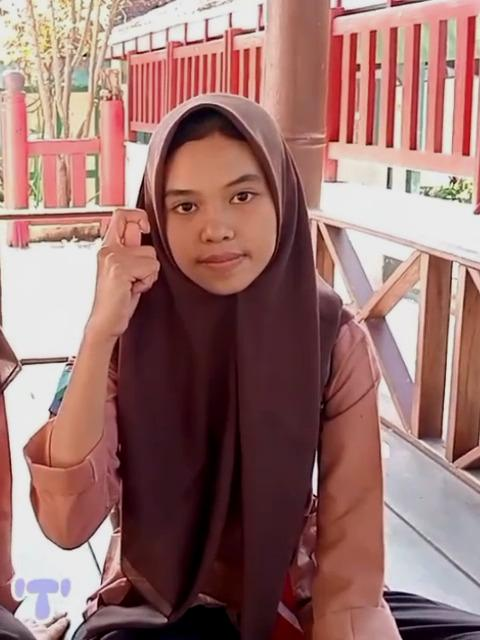T: (92, 208, 162, 338)
